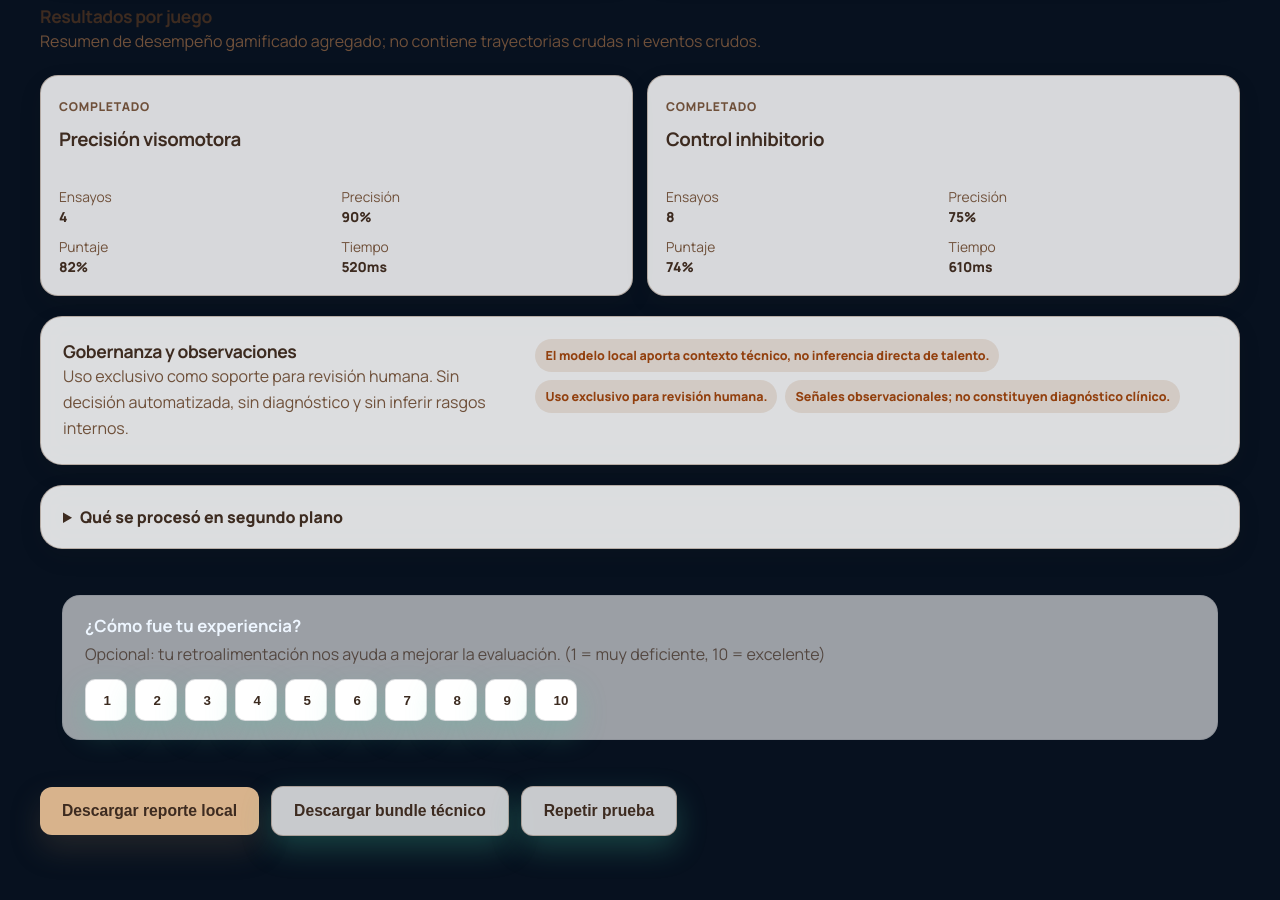
Test: PostulationReportScreen › F.2 — encuesta NPS opcional post-reporte (1-10) › reporte real: muestra la encuesta con 10 opciones; al elegir, agradece y oculta los botones
(page scrolled)
Expected: the element with test id "nps-survey" is shown, left=62, top=595, right=1218, bottom=740
Expected: the heading "¿Cómo fue tu experiencia?" is shown, left=85, top=614, right=301, bottom=637
Click the button with test id "nps-score-8": click(456, 700) left=435, top=679, right=477, bottom=721
(page scrolled)
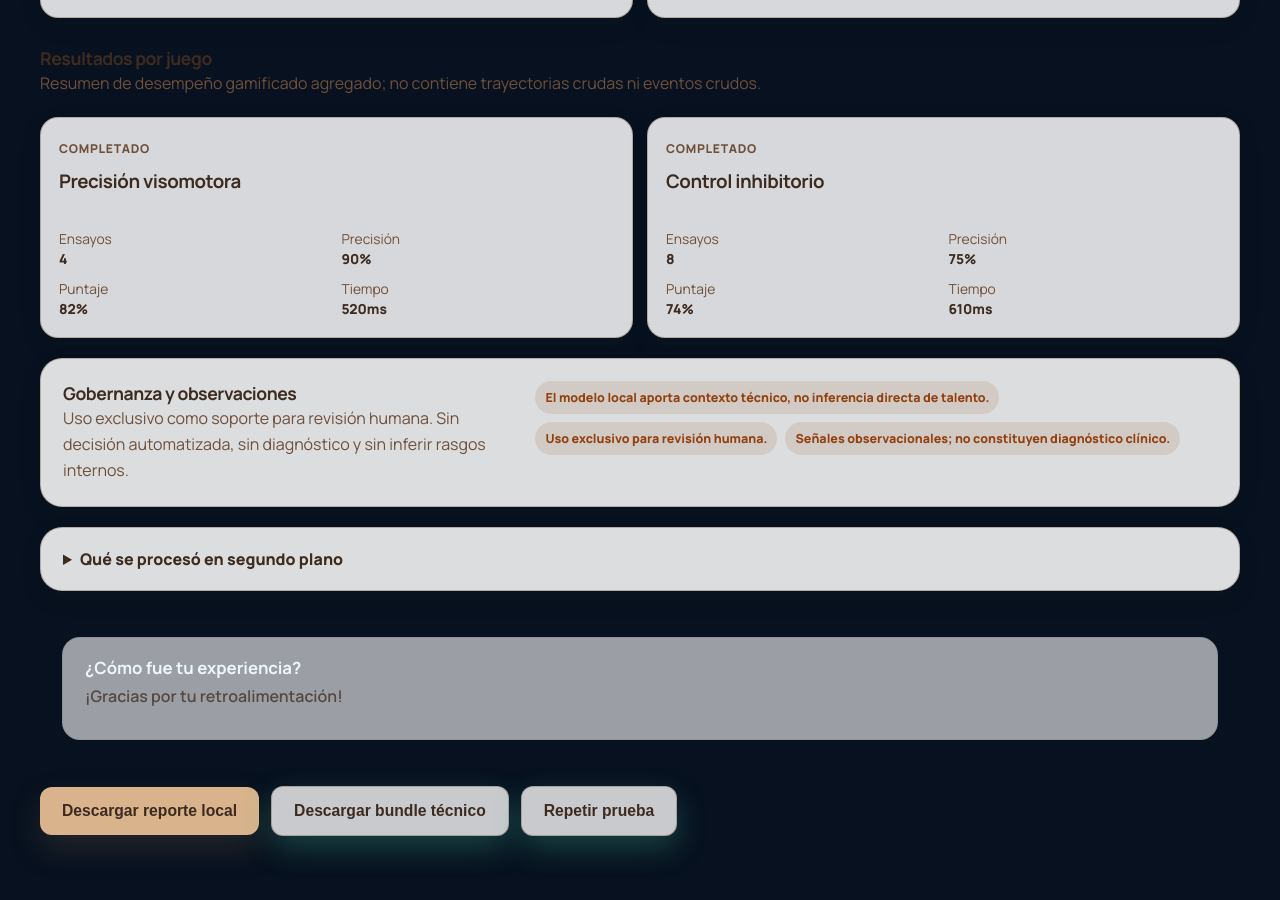
Now the text "¡Gracias por tu retroalimentación!" is shown, box left=85, top=685, right=343, bottom=707
Now the button with test id "nps-score-8" is gone
